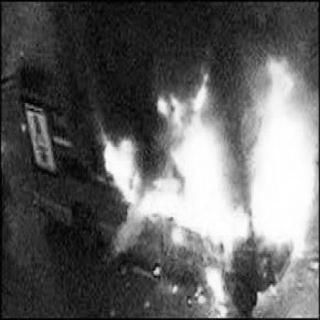Fire: (97, 36, 317, 313)
